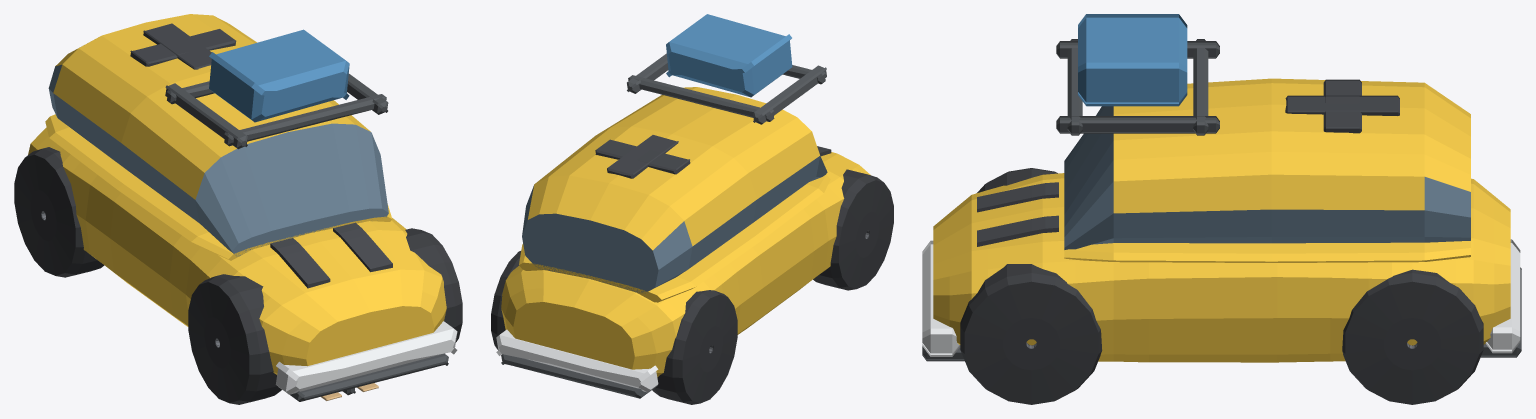
File: toy-car-family.glb
3 renders of one model, left to right at view 1: azimuth 30°, elevation 25°; view 2: azimuth 150°, elevation 25°; view 3: azimuth 270°, elevation 25°, orthographic. The views are drawn at different scales.
Visible parts, largest first — view 1: toy-car-family-canopy, toy-car-family-body, toy-car-family-rack-crate, wheel-front-left, wheel-rear-left, toy-car-family-beltline, toy-car-family-bumper-front, wheel-front-right, toy-car-family-rack-rail-0, toy-car-family-splitter, toy-car-family-glyph-0, toy-car-family-rack-side-left (+5 smaller); view 2: toy-car-family-canopy, toy-car-family-body, toy-car-family-rack-crate, wheel-rear-left, wheel-front-left, toy-car-family-beltline, toy-car-family-bumper-rear, toy-car-family-rack-rail-1, toy-car-family-diffuser, toy-car-family-glyph-0, toy-car-family-glyph-1, toy-car-family-rack-side-left (+2 smaller); view 3: toy-car-family-canopy, toy-car-family-body, wheel-front-right, wheel-rear-right, toy-car-family-rack-crate, toy-car-family-beltline, toy-car-family-rack-side-right, toy-car-family-bumper-front, toy-car-family-glyph-1, toy-car-family-glyph-0, toy-car-family-bumper-rear, toy-car-family-stripe-hood-right (+5 smaller).
Part boxes in pixels (x1,y1,x2,y2): toy-car-family-canopy: [48, 14, 388, 256]; toy-car-family-body: [28, 127, 446, 374]; toy-car-family-rack-crate: [209, 29, 349, 122]; wheel-front-left: [188, 274, 281, 404]; wheel-rear-left: [14, 147, 104, 277]; toy-car-family-beltline: [45, 114, 392, 260]; toy-car-family-bumper-front: [275, 321, 457, 394]; wheel-front-right: [405, 228, 462, 342]; toy-car-family-rack-rail-0: [224, 94, 386, 146]; toy-car-family-splitter: [290, 353, 448, 401]; toy-car-family-glyph-0: [130, 29, 236, 66]; toy-car-family-rack-side-left: [165, 83, 247, 149]; toy-car-family-canopy: [522, 87, 827, 293]; toy-car-family-body: [501, 152, 870, 377]; toy-car-family-rack-crate: [666, 14, 792, 97]; wheel-rear-left: [652, 290, 737, 404]; wheel-front-left: [813, 169, 893, 290]; toy-car-family-beltline: [519, 175, 830, 302]; toy-car-family-bumper-rear: [496, 329, 658, 392]; toy-car-family-rack-rail-1: [628, 75, 774, 121]; toy-car-family-diffuser: [501, 354, 657, 398]; toy-car-family-glyph-0: [595, 139, 690, 174]; toy-car-family-glyph-1: [607, 135, 678, 178]; toy-car-family-rack-side-left: [753, 65, 826, 124]; toy-car-family-canopy: [1064, 78, 1470, 249]; toy-car-family-body: [933, 173, 1510, 362]; wheel-front-right: [960, 264, 1102, 404]; wheel-rear-right: [1342, 269, 1483, 404]; toy-car-family-rack-crate: [1078, 14, 1187, 106]; toy-car-family-beltline: [1064, 241, 1470, 262]; toy-car-family-rack-side-right: [1056, 116, 1219, 133]; toy-car-family-bumper-front: [922, 240, 960, 356]; toy-car-family-glyph-1: [1285, 95, 1399, 115]; toy-car-family-glyph-0: [1323, 79, 1361, 133]; toy-car-family-bumper-rear: [1485, 239, 1520, 353]; toy-car-family-stripe-hood-right: [977, 215, 1058, 246].
Bounding box in the file's own units: 1 × 1.27 × 2.2.
